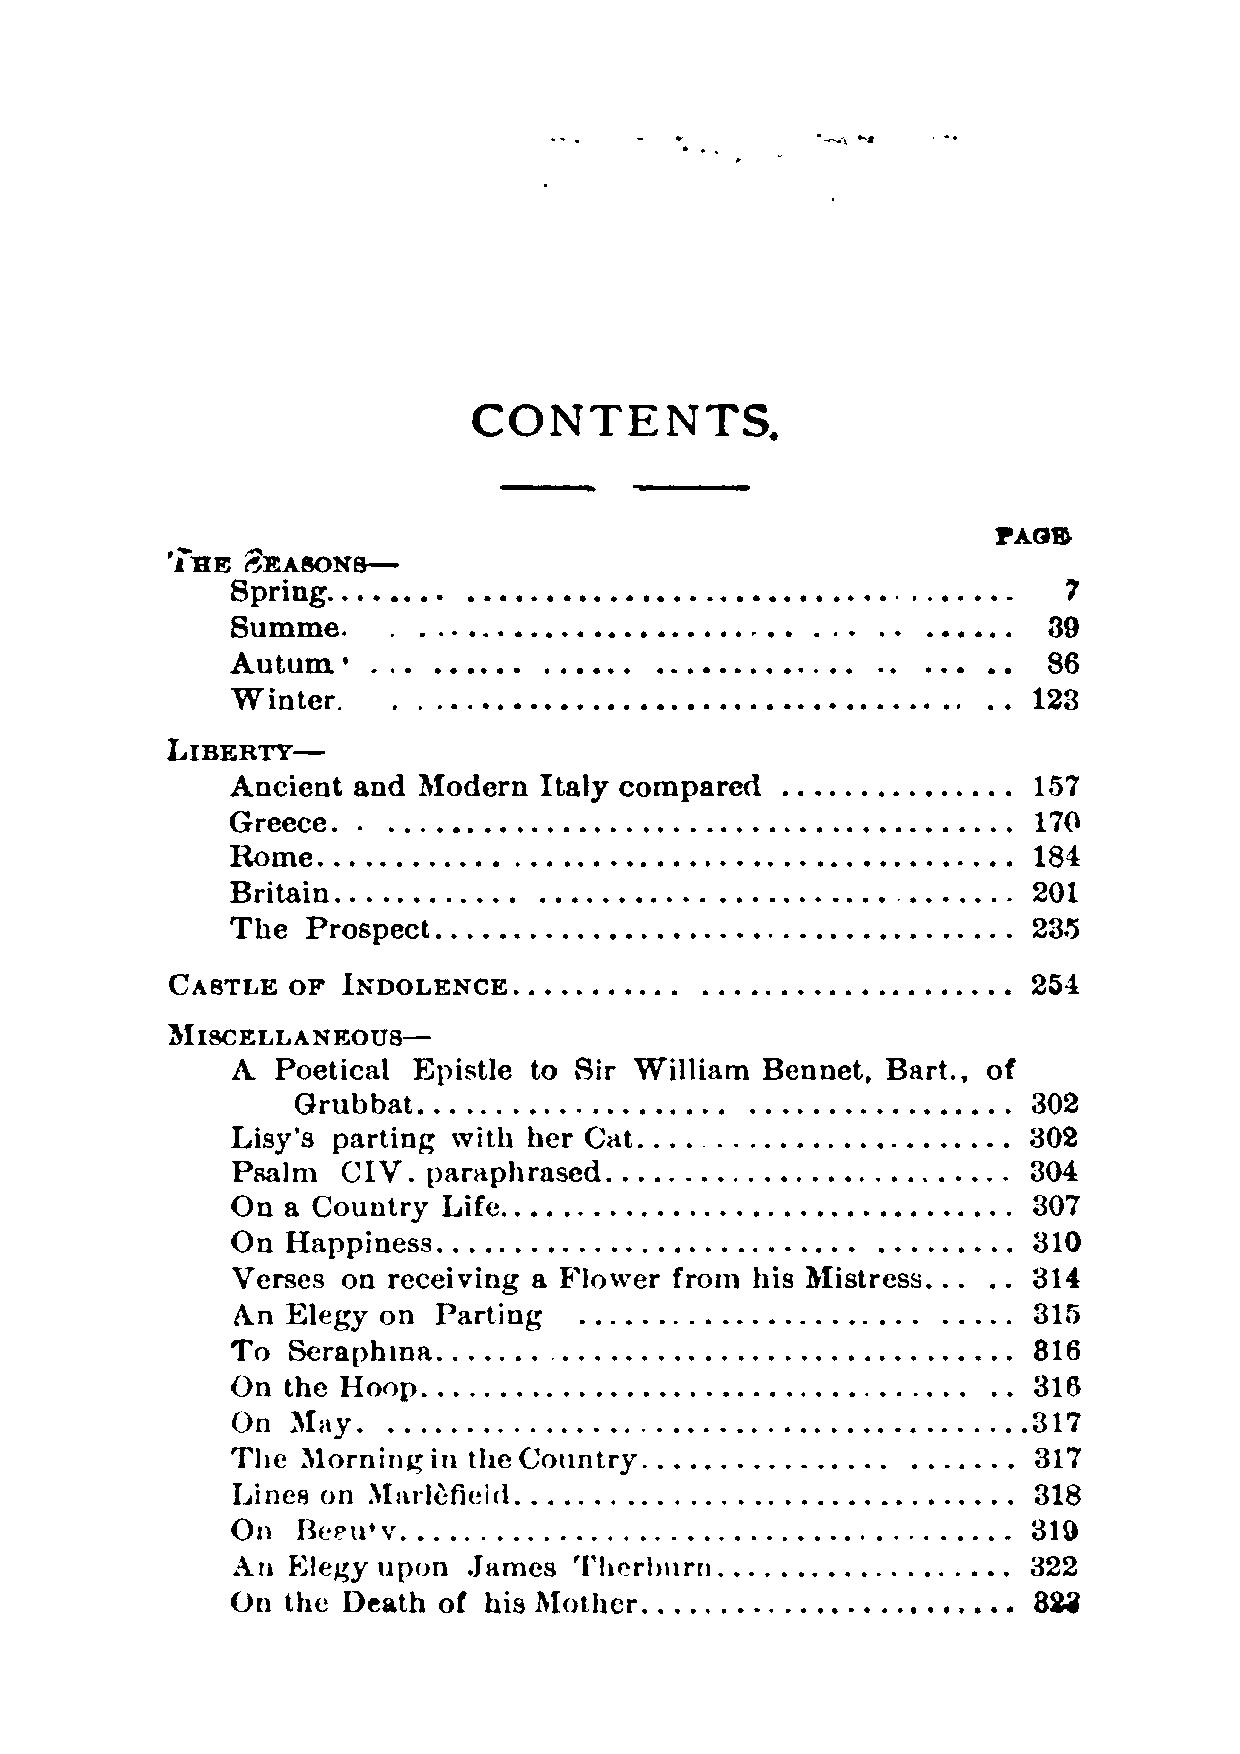TOC_chapter: (225, 1057, 1023, 1117), (231, 1261, 922, 1294), (225, 772, 760, 804), (227, 1551, 713, 1580), (223, 1443, 636, 1475), (231, 1121, 635, 1153), (231, 1155, 607, 1186), (227, 1586, 639, 1613), (234, 1296, 544, 1331), (164, 968, 511, 998), (164, 1017, 432, 1049), (231, 1190, 502, 1221), (164, 544, 401, 574), (228, 1480, 510, 1504), (229, 1224, 433, 1256), (228, 911, 428, 943), (225, 1337, 436, 1366), (162, 727, 331, 761), (228, 1373, 417, 1402), (225, 1514, 396, 1545), (227, 1406, 354, 1437), (225, 679, 348, 710), (225, 574, 331, 608), (225, 646, 352, 674), (228, 875, 331, 907), (225, 611, 349, 637), (225, 804, 327, 829), (228, 837, 318, 866)
TOC_pagenumber: (1031, 913, 1082, 943), (1027, 1551, 1082, 1578), (1031, 684, 1076, 717), (1031, 1263, 1080, 1292), (1028, 1087, 1075, 1118), (1031, 769, 1082, 797), (1028, 875, 1079, 903), (1028, 970, 1079, 998), (1031, 1586, 1083, 1613), (1031, 1406, 1082, 1433), (1033, 807, 1078, 837), (1025, 1158, 1078, 1184), (1028, 1516, 1080, 1542), (1031, 1334, 1082, 1359), (1031, 1370, 1082, 1396), (1033, 1478, 1082, 1504), (1041, 609, 1082, 640), (1031, 840, 1079, 866), (1033, 1229, 1082, 1255), (1031, 1300, 1080, 1325), (1031, 1445, 1082, 1468), (1028, 1125, 1078, 1147), (1033, 1193, 1080, 1216), (1045, 651, 1082, 676), (1055, 572, 1078, 605)
chapter: (468, 400, 780, 442)
